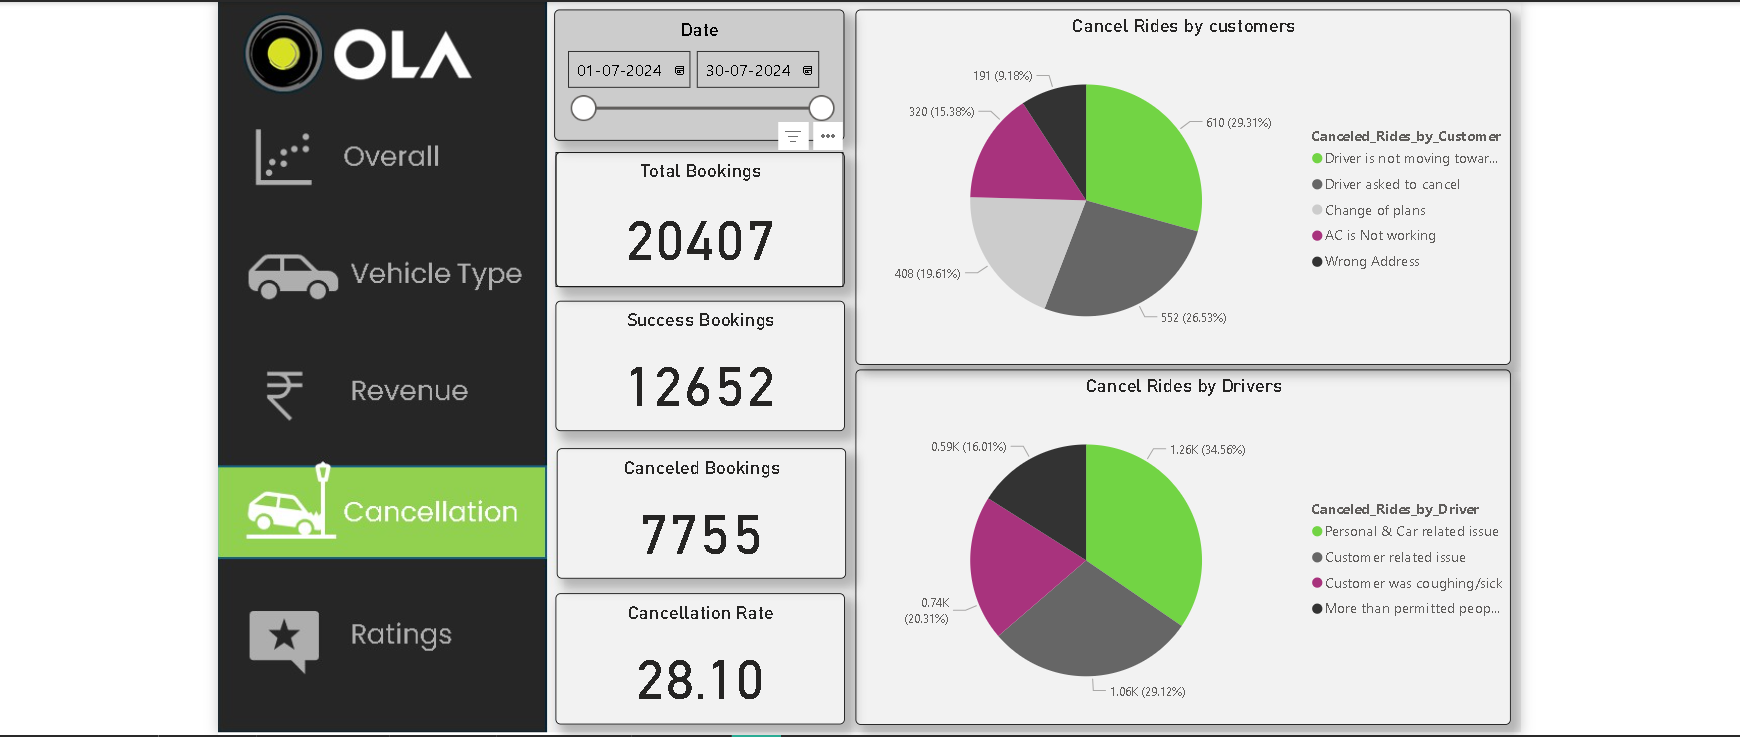

What the dashboard file says about the page in this screenshot:
{"tool":"powerbi","page":{"name":"Cancellation","canvas":[1280,720],"ordinal":3},"visuals":[{"type":"actionButton","box":[0,218.4,325.2,90.8],"z":0},{"type":"actionButton","box":[0,338.7,325.2,90.8],"z":1000},{"type":"actionButton","box":[0,582.8,325.2,90.8],"z":2000},{"type":"actionButton","box":[0,104.3,325.2,90.8],"z":3000},{"type":"pieChart","title":"Cancel Rides by customers","fields":{"Y":["CountNonNull(July.Booking_Status)"],"Category":["July.Canceled_Rides_by_Customer"]},"box":[625.7,6.9,643.6,348.5],"z":4000},{"type":"pieChart","title":"Cancel Rides by Drivers","fields":{"Category":["July.Canceled_Rides_by_Driver"],"Y":["CountNonNull(July.Canceled_Rides_by_Driver)"]},"box":[625.7,360.9,643.6,348.5],"z":5000},{"type":"slicer","title":"Date","fields":{"Values":["July.Date"]},"box":[330.1,7.4,284.7,128.8],"z":6000},{"type":"card","title":"Total Bookings","fields":{"Values":["CountNonNull(July.Booking_ID)"]},"box":[330.7,146.8,284,133.1],"z":7000},{"type":"card","title":"Success Bookings","fields":{"Values":["CountNonNull(July.Booking_ID)"]},"box":[330.7,293.7,284,127.6],"z":8000},{"type":"card","title":"Canceled Bookings","fields":{"Values":["CountNonNull(July.Booking_ID)"]},"box":[332.1,437.7,284,127.6],"z":9000},{"type":"card","title":"Cancellation Rate","fields":{"Values":["July.CanceledPersentage"]},"box":[330.7,580.4,284,129],"z":10000}]}

Visuals, with their boxes on the page's 1280x720 design canvas (x1, y1, x2, y2). These are canvas units, not pixel positions in the 1740x737 screenshot, which may show the page scaled, cropped or inside an application window:
actionButton: x1=0 y1=218 x2=325 y2=309
actionButton: x1=0 y1=339 x2=325 y2=430
actionButton: x1=0 y1=583 x2=325 y2=674
actionButton: x1=0 y1=104 x2=325 y2=195
"Cancel Rides by customers" pieChart: x1=626 y1=7 x2=1269 y2=355
"Cancel Rides by Drivers" pieChart: x1=626 y1=361 x2=1269 y2=709
"Date" slicer: x1=330 y1=7 x2=615 y2=136
"Total Bookings" card: x1=331 y1=147 x2=615 y2=280
"Success Bookings" card: x1=331 y1=294 x2=615 y2=421
"Canceled Bookings" card: x1=332 y1=438 x2=616 y2=565
"Cancellation Rate" card: x1=331 y1=580 x2=615 y2=709
